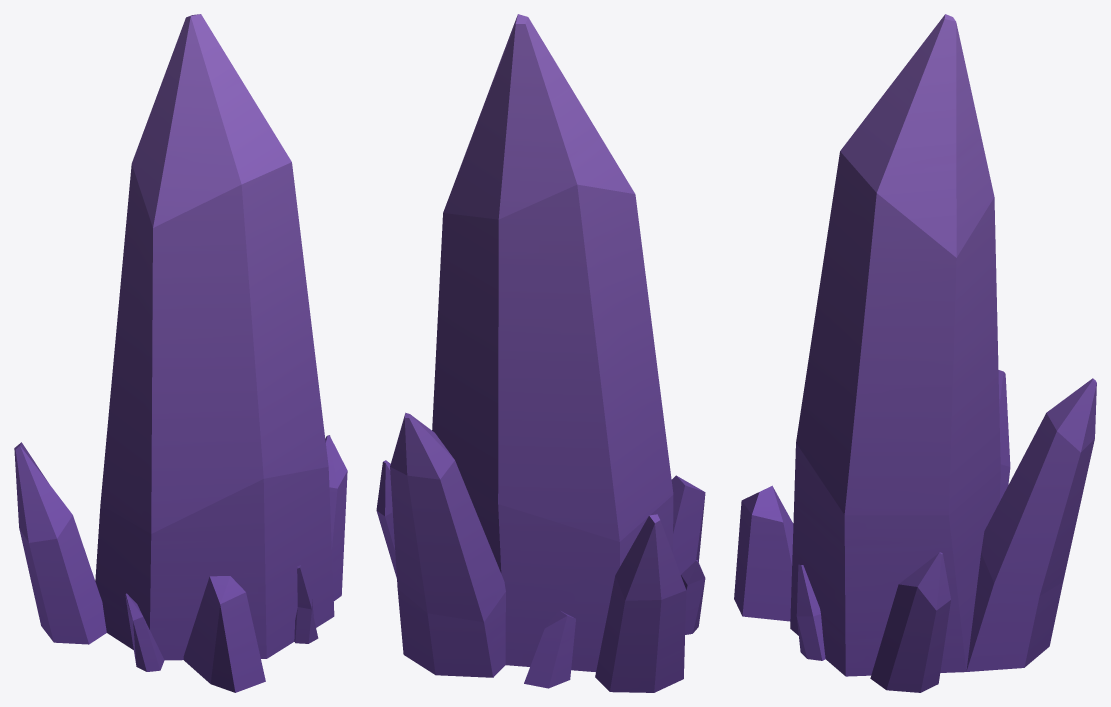
Rendered from crystal_violet.fbx.
3 renders of one model, left to right at view 1: azimuth 30°, elevation 25°; view 2: azimuth 150°, elevation 25°; view 3: azimuth 270°, elevation 25°, orthographic. The views are drawn at different scales.
Visible parts, largest first — view 1: crystal_violet; view 2: crystal_violet; view 3: crystal_violet.
Boxes of the visible parts, left/top/right/bottom form: crystal_violet: left=14, top=14, right=347, bottom=692; crystal_violet: left=376, top=14, right=705, bottom=692; crystal_violet: left=734, top=14, right=1096, bottom=692.
Size of the model in its own units: 0.75 by 1.4 by 0.75.
Materials: 1 (1 with a texture image).
